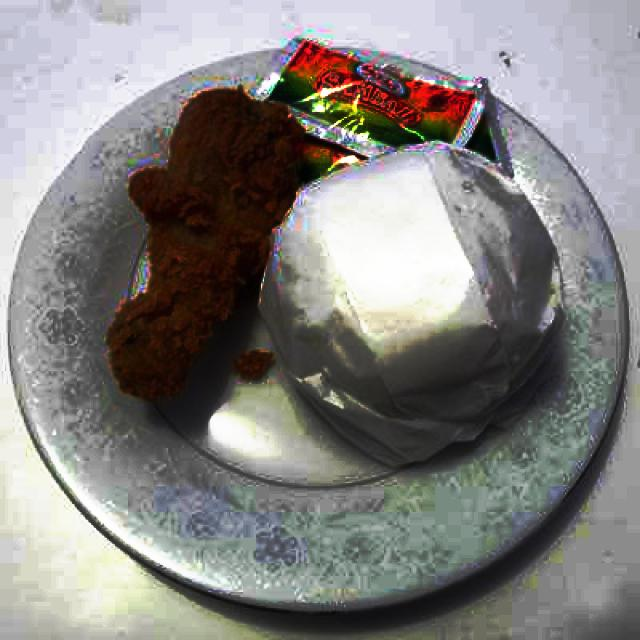fried_chicken: (104, 83, 307, 410)
